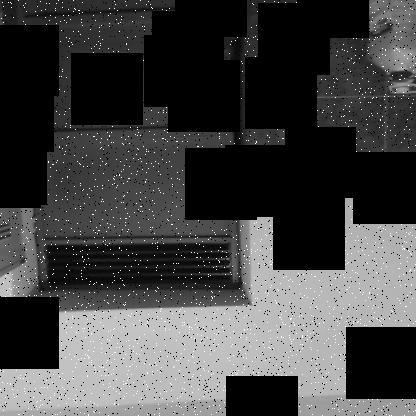Porte: (13, 1, 243, 295)
